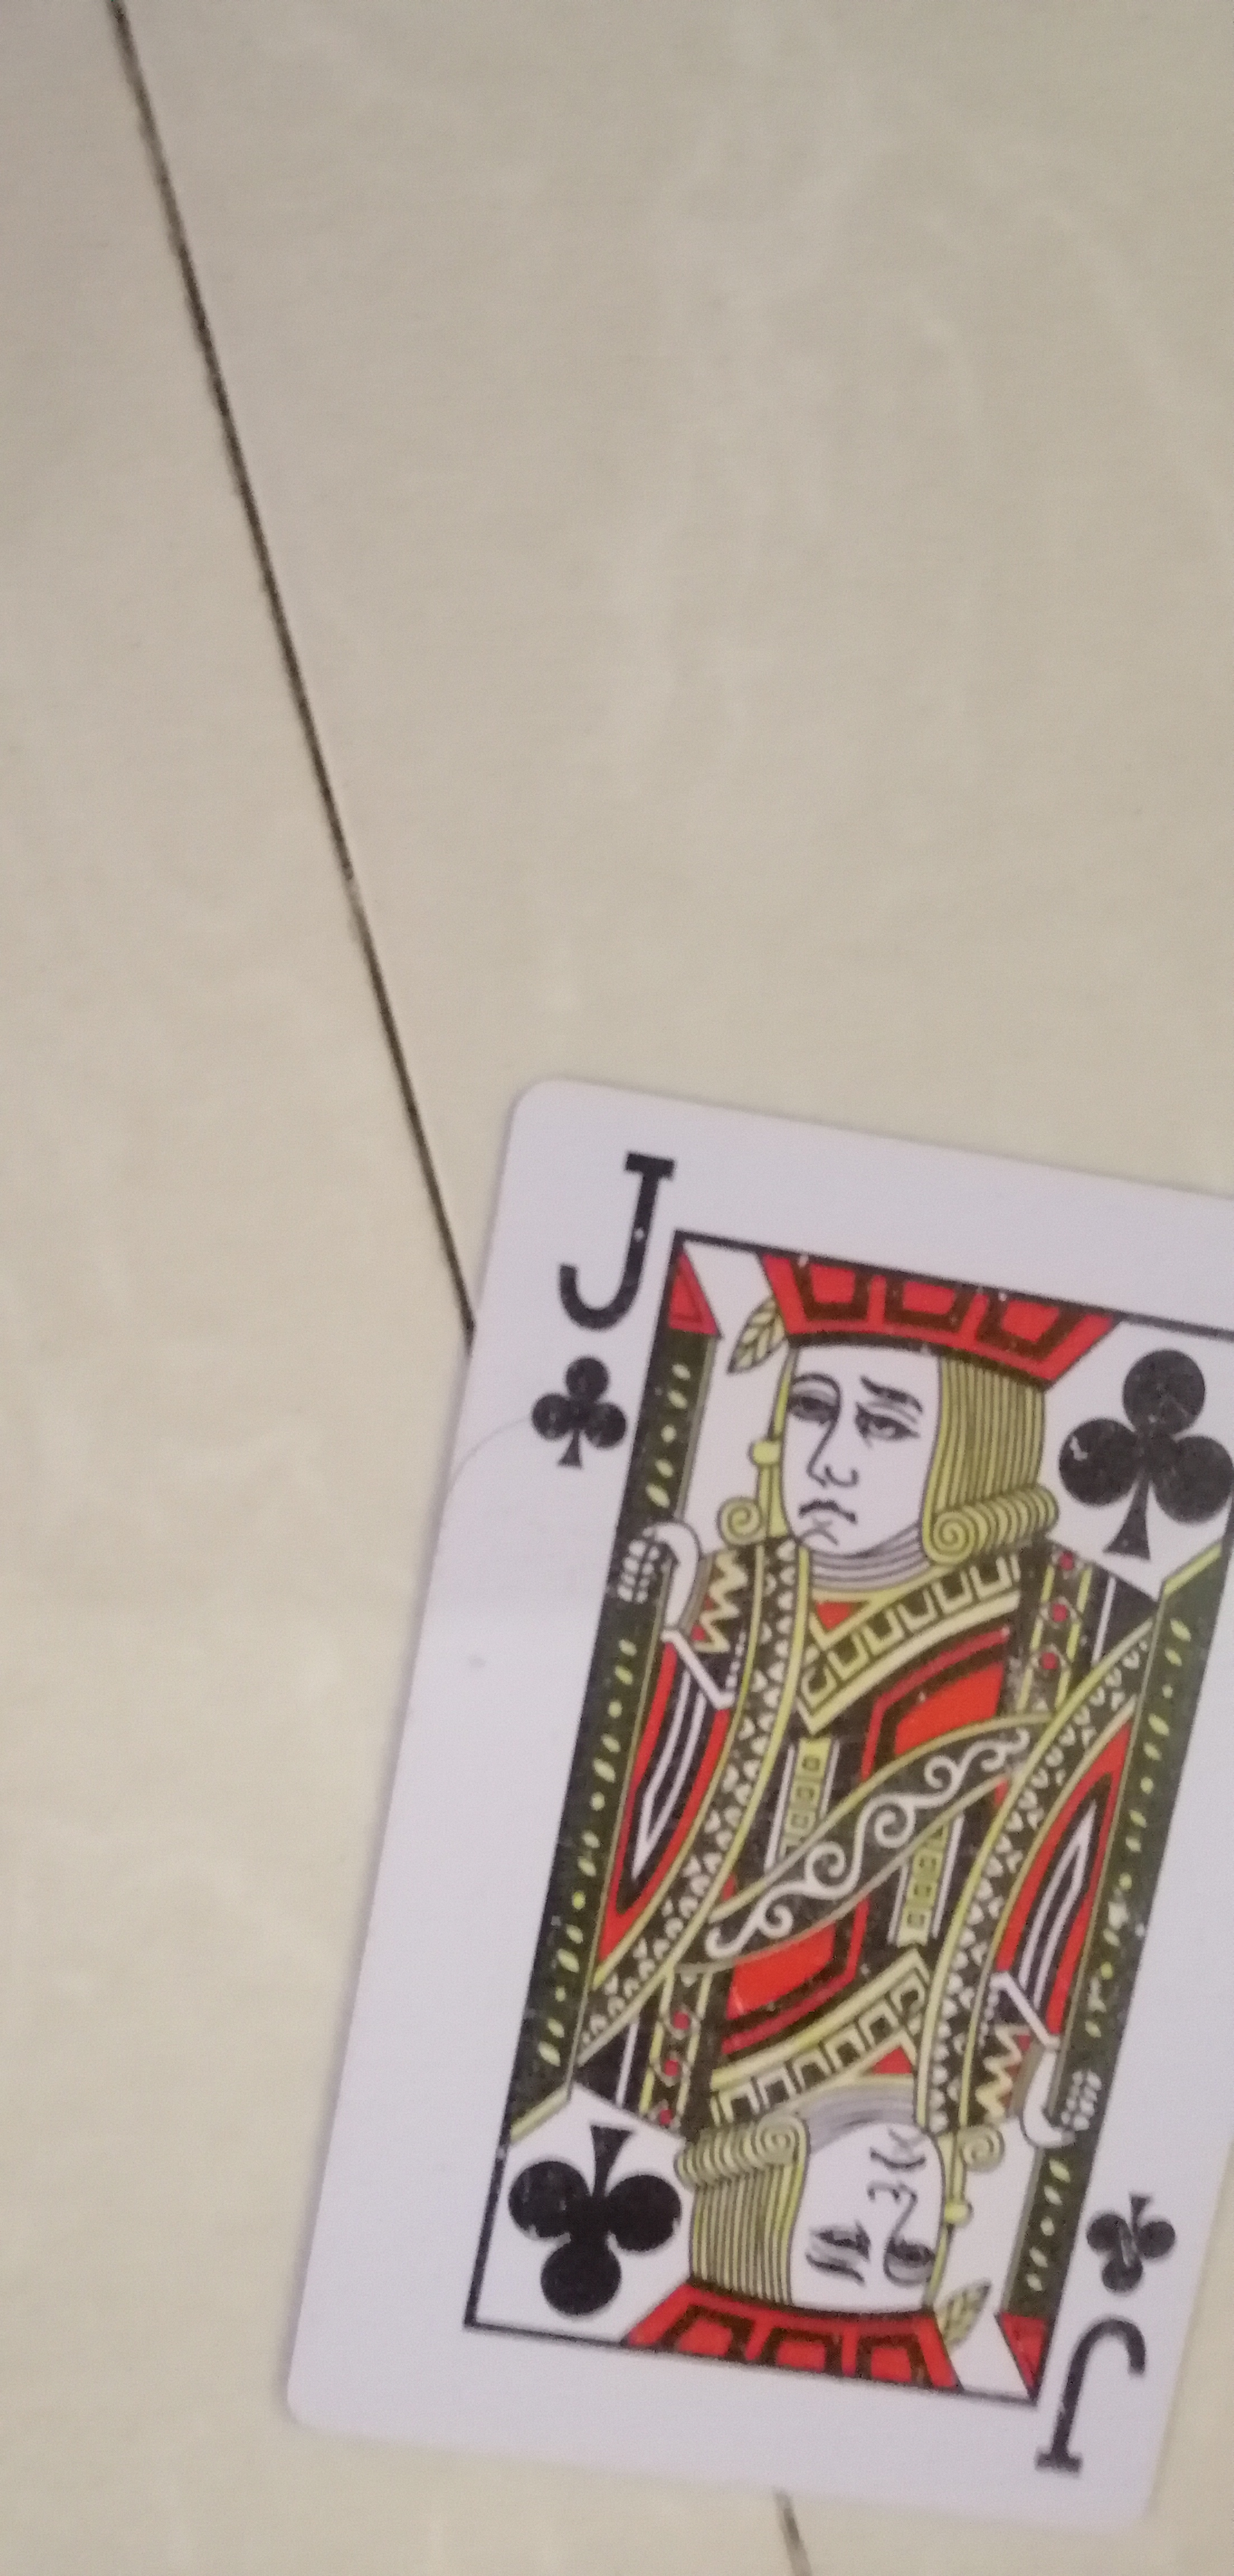jack: (250, 1071, 1234, 2550)
